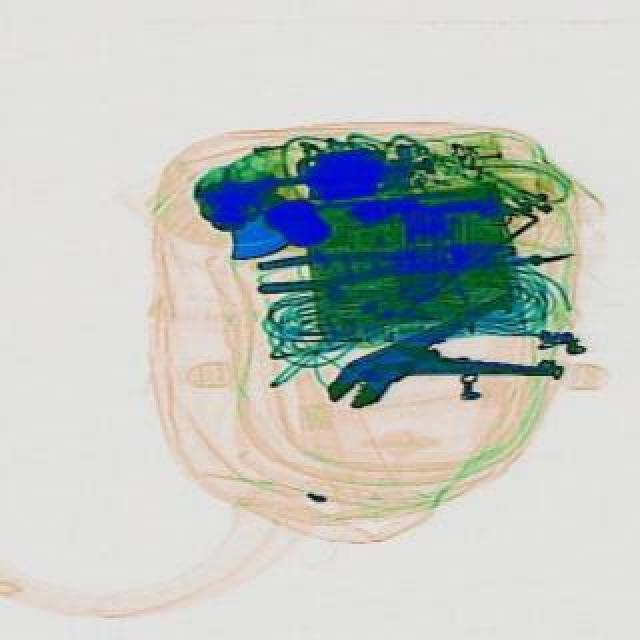wrench: (310, 284, 560, 448), (252, 230, 516, 294)
